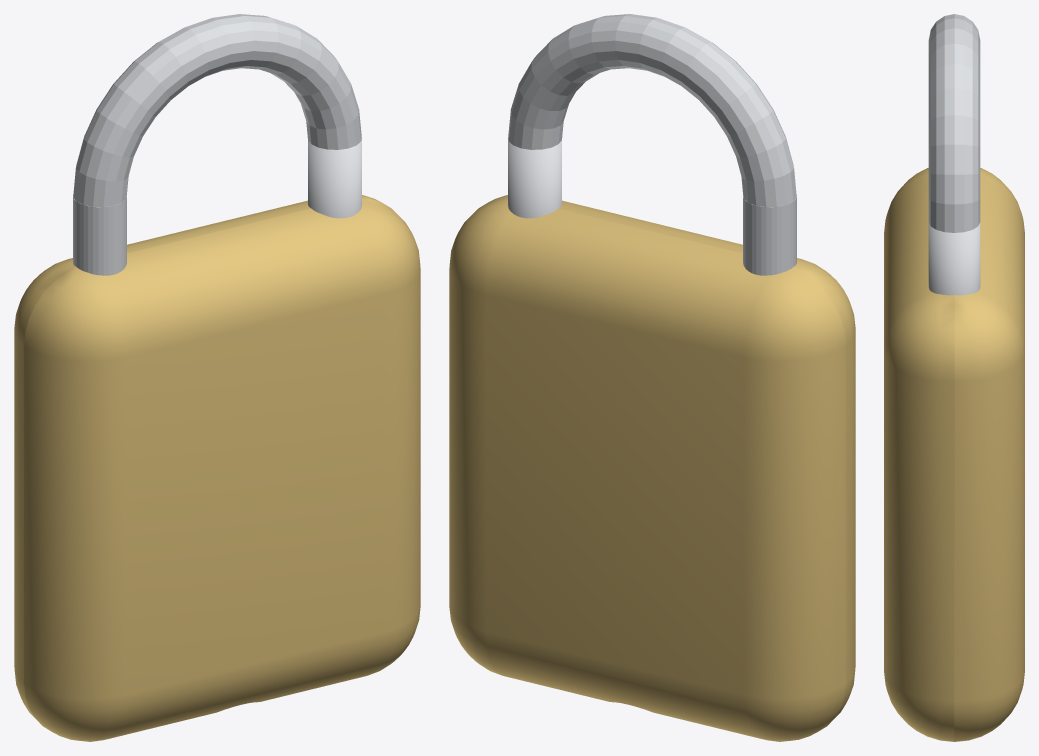
The model's file is KeyLock.fbx.
3 renders of one model, left to right at view 1: azimuth 30°, elevation 25°; view 2: azimuth 150°, elevation 25°; view 3: azimuth 270°, elevation 25°, orthographic. The views are drawn at different scales.
Parts seen in each view (by area): view 1: Lock_Body, Shackle_Arc, Shackle_LegL, Shackle_LegR; view 2: Lock_Body, Shackle_Arc, Shackle_LegL, Shackle_LegR; view 3: Lock_Body, Shackle_Arc, Shackle_LegR.
Boxes of the visible parts, bbox=[...] form: Lock_Body: bbox=[14, 195, 420, 741]; Shackle_Arc: bbox=[73, 14, 361, 207]; Shackle_LegL: bbox=[73, 195, 126, 275]; Shackle_LegR: bbox=[308, 137, 361, 218]; Lock_Body: bbox=[449, 195, 855, 741]; Shackle_Arc: bbox=[508, 14, 796, 207]; Shackle_LegL: bbox=[743, 195, 796, 275]; Shackle_LegR: bbox=[508, 137, 561, 218]; Lock_Body: bbox=[884, 168, 1024, 741]; Shackle_Arc: bbox=[928, 14, 980, 232]; Shackle_LegR: bbox=[928, 222, 980, 295].
Bounding box in the file's own units: 165 × 278 × 54.88.
